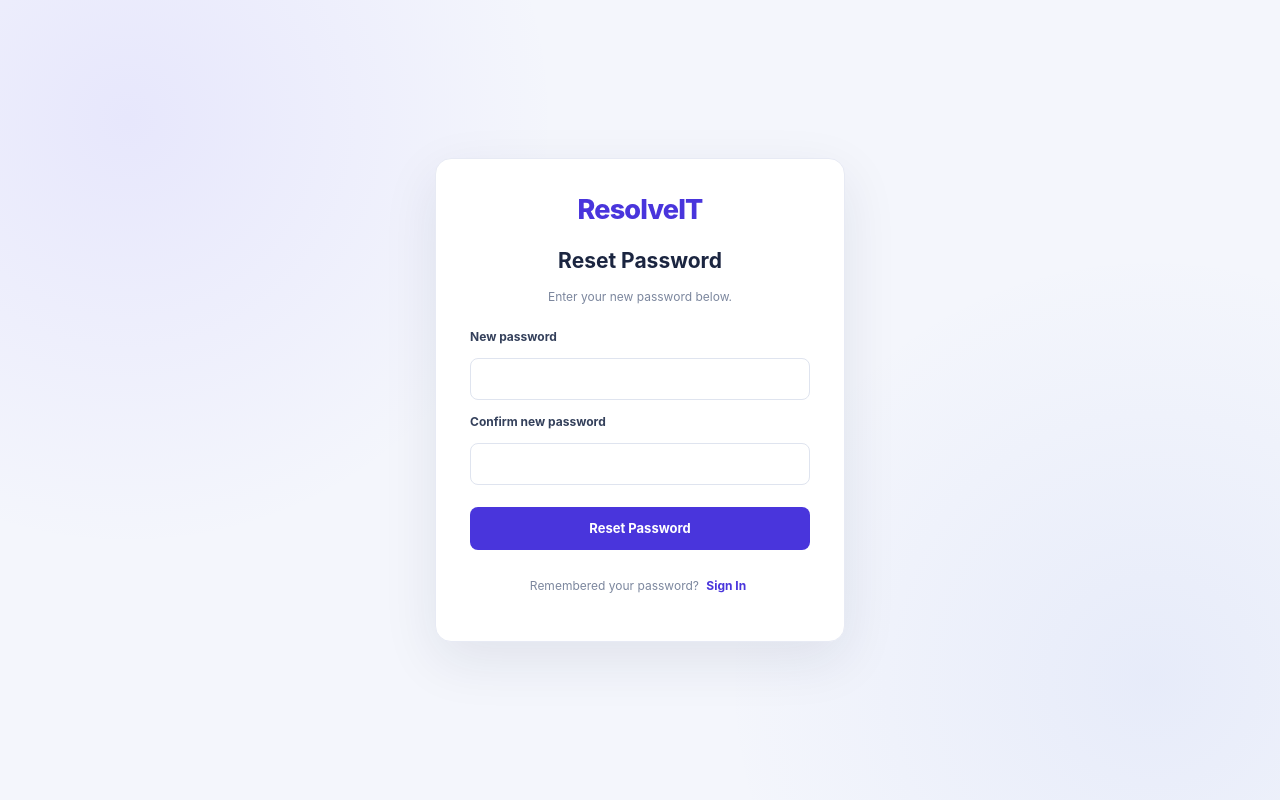
it: Password Reset Workflows & Security › clears reset token and returns to login when cancel is clicked
This screenshot has width=1280, height=800.
Step 1. Click the button "Sign In" → (726,585), box [702,572,750,599]
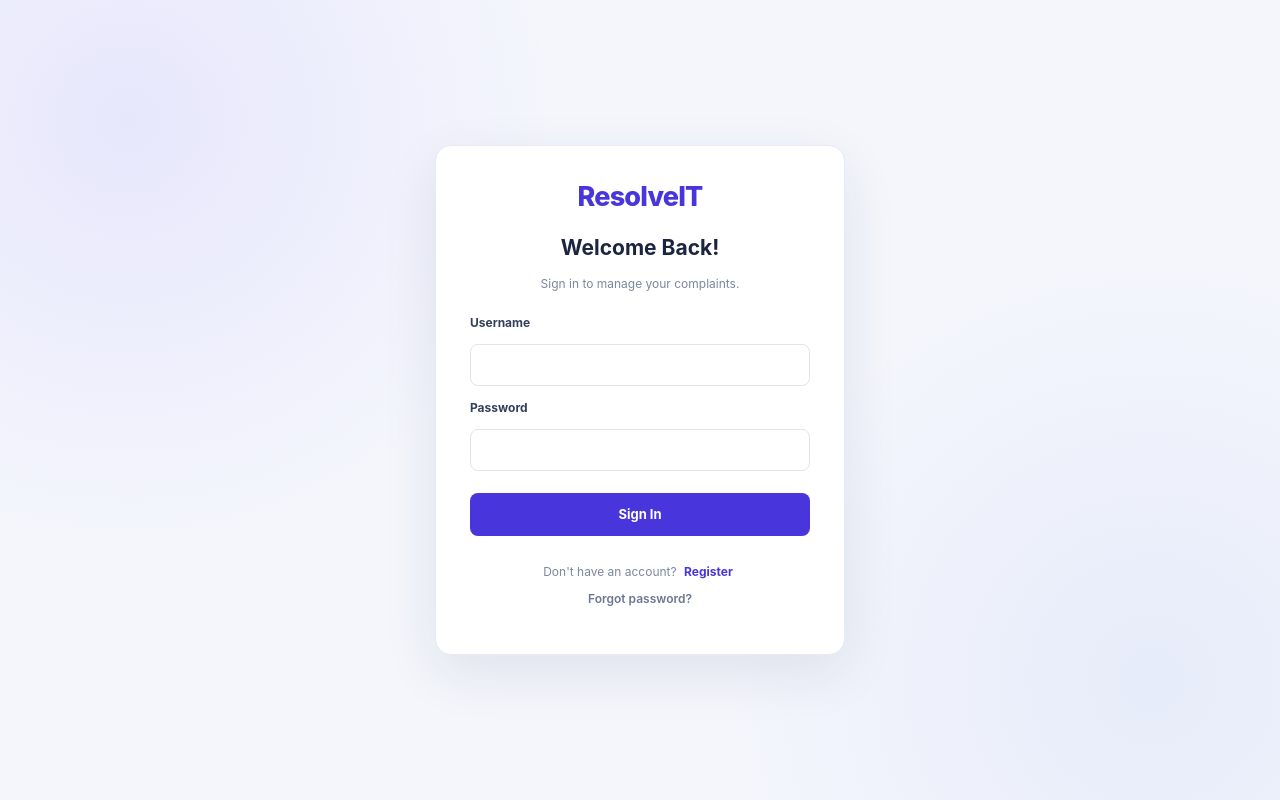
Result: the heading "Welcome Back!" is shown at [561,235,719,260]
